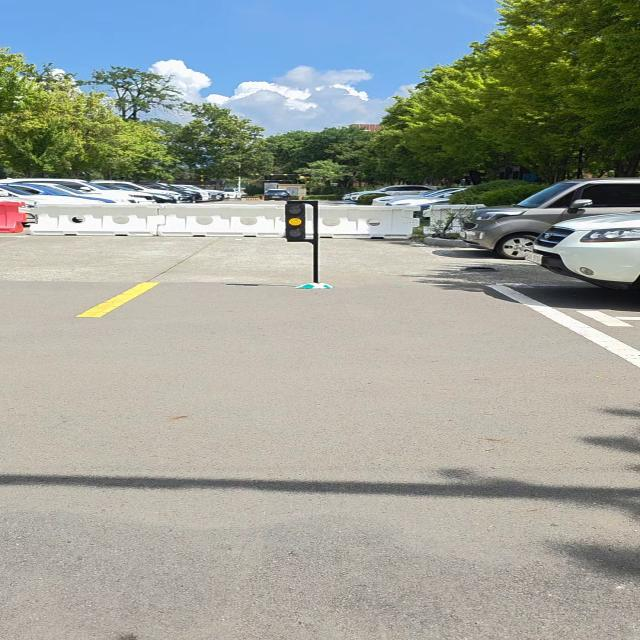yellow: (284, 203, 307, 243)
